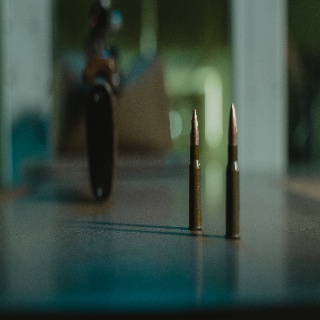rifle: (79, 1, 128, 204)
